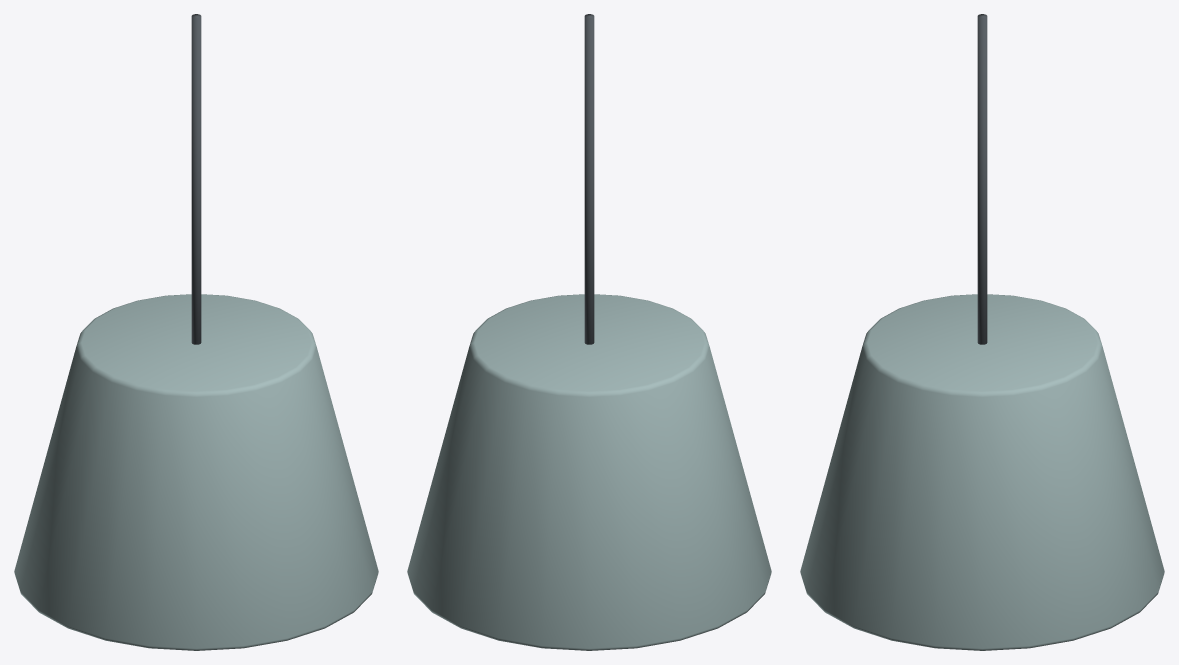
Rendered from atelier-pendant-light.glb.
The picture shows the model from 3 angles, left to right: view 1: azimuth 30°, elevation 25°; view 2: azimuth 150°, elevation 25°; view 3: azimuth 270°, elevation 25°; orthographic projection.
Parts seen in each view (by area): view 1: fabric.065, metal.072; view 2: fabric.065, metal.072; view 3: fabric.065, metal.072.
Part boxes in pixels (x1=…): fabric.065: x1=14, y1=294, x2=378, y2=650; metal.072: x1=191, y1=14, x2=201, y2=344; fabric.065: x1=407, y1=294, x2=771, y2=650; metal.072: x1=584, y1=14, x2=594, y2=344; fabric.065: x1=800, y1=294, x2=1164, y2=650; metal.072: x1=977, y1=14, x2=987, y2=344.
Bounding box in the file's own units: 0.5966 × 1.01 × 0.5966.
